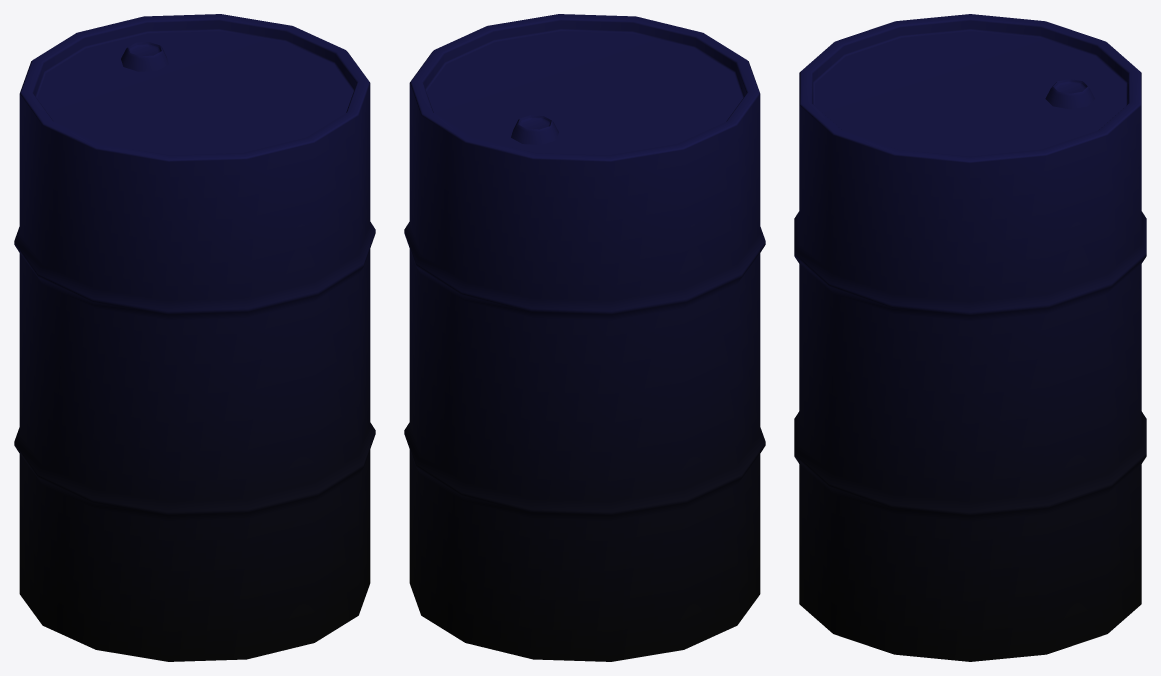
The model's file is SM_Props_Baril_01.fbx.
3 views of the same model, side by side, from view 1: azimuth 30°, elevation 25°; view 2: azimuth 150°, elevation 25°; view 3: azimuth 270°, elevation 25° (orthographic).
Visible parts, largest first — view 1: transform16; view 2: transform16; view 3: transform16.
Boxes of the visible parts, x1,y1,x2,y2 form: transform16: [14, 14, 375, 661]; transform16: [404, 14, 765, 661]; transform16: [794, 14, 1146, 661].
Bounding box in the file's own units: 53.55 × 81.93 × 52.21.
